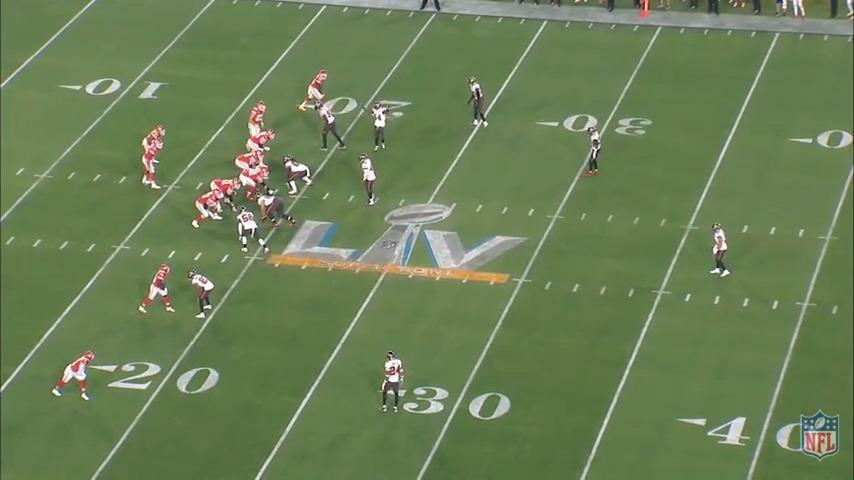defense: (378, 350, 406, 416), (236, 208, 272, 256), (258, 192, 301, 230), (584, 116, 608, 180), (188, 267, 216, 321), (712, 221, 737, 281), (316, 101, 344, 154), (282, 154, 315, 196), (468, 76, 491, 131), (360, 153, 381, 210), (370, 100, 390, 152)
oline: (190, 190, 225, 230), (238, 166, 270, 203), (208, 175, 239, 212), (249, 128, 278, 167), (234, 151, 264, 177)
qb: (143, 130, 166, 190)
skill: (49, 349, 97, 404), (136, 261, 175, 319), (297, 68, 329, 114), (147, 122, 167, 170), (246, 99, 268, 142)
